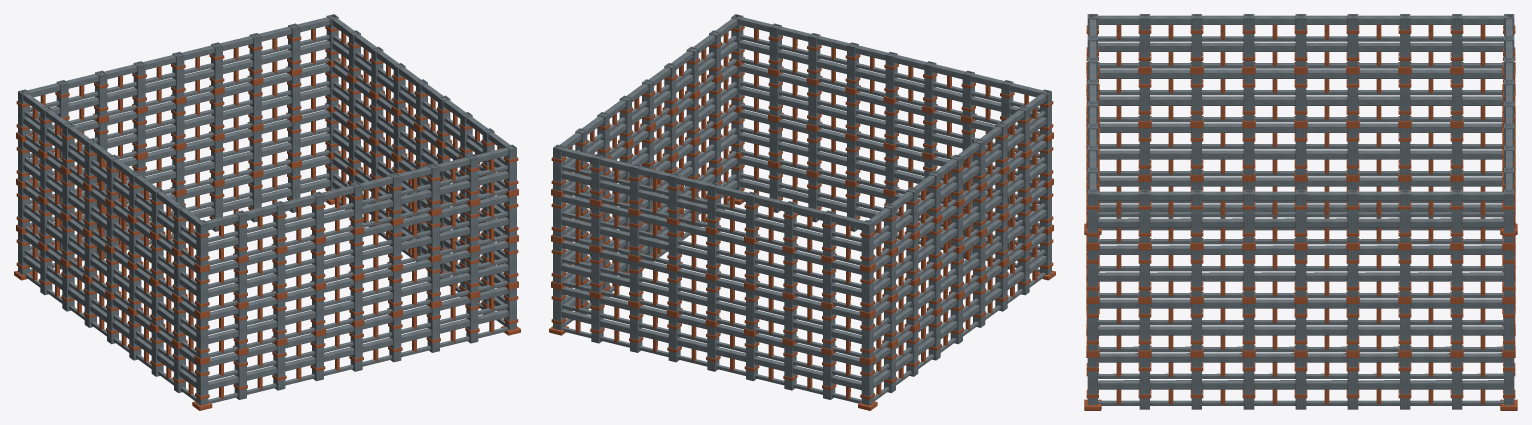
3 renders of one model, left to right at view 1: azimuth 30°, elevation 25°; view 2: azimuth 150°, elevation 25°; view 3: azimuth 270°, elevation 25°, orthographic. The views are drawn at different scales.
Parts seen in each view (by area): view 1: Tier 3 side 0 post 0, Tier 0 side 0 post 0, Tier 1 side 0 post 0; view 2: Tier 3 side 3 post 0, Tier 0 side 3 post 0, Tier 1 side 3 post 0; view 3: Tier 3 side 1 post 3, Tier 3 side 1 post 4, Tier 3 side 1 post 5, Tier 3 side 3 post 3, Tier 3 side 3 post 4, Tier 3 side 3 post 5, Tier 0 side 1 post 3, Tier 0 side 1 post 4, Tier 0 side 1 post 5, Tier 3 side 1 post 0, Tier 3 side 1 post 1, Tier 3 side 1 post 2 (+165 smaller).
Part boxes in pixels (box(x1,y1,x2,y2)): Tier 3 side 0 post 0: box(196, 220, 208, 266); Tier 0 side 0 post 0: box(196, 363, 208, 405); Tier 1 side 0 post 0: box(196, 317, 208, 358); Tier 3 side 3 post 0: box(861, 220, 873, 266); Tier 0 side 3 post 0: box(861, 363, 873, 405); Tier 1 side 3 post 0: box(861, 316, 873, 358); Tier 3 side 1 post 3: box(1243, 190, 1254, 242); Tier 3 side 1 post 4: box(1295, 190, 1306, 242); Tier 3 side 1 post 5: box(1347, 190, 1358, 242); Tier 3 side 3 post 3: box(1347, 14, 1358, 66); Tier 3 side 3 post 4: box(1295, 14, 1306, 66); Tier 3 side 3 post 5: box(1243, 14, 1254, 66); Tier 0 side 1 post 3: box(1243, 358, 1254, 409); Tier 0 side 1 post 4: box(1295, 358, 1306, 409); Tier 0 side 1 post 5: box(1347, 358, 1358, 409); Tier 3 side 1 post 0: box(1087, 190, 1097, 242); Tier 3 side 1 post 1: box(1139, 190, 1149, 242); Tier 3 side 1 post 2: box(1191, 190, 1201, 242).
Size of the model in its own units: 3.75 by 2.06 by 3.75.
Materials: 2 (2 with a texture image).
